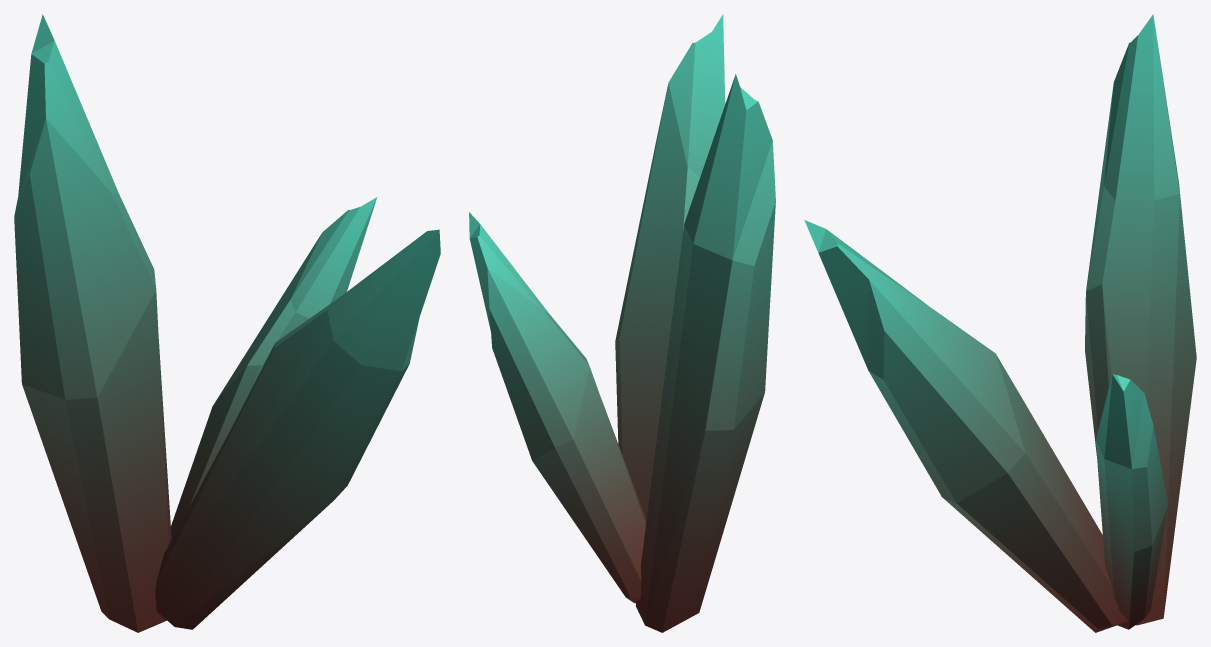
Rendered from Crystal_clump.FBX.
3 views of the same model, side by side, from view 1: azimuth 30°, elevation 25°; view 2: azimuth 150°, elevation 25°; view 3: azimuth 270°, elevation 25° (orthographic). The views are drawn at different scales.
Parts seen in each view (by area): view 1: tall_crystal; view 2: tall_crystal; view 3: tall_crystal.
Boxes of the visible parts, bbox=[...] form: tall_crystal: bbox=[14, 14, 440, 632]; tall_crystal: bbox=[469, 14, 775, 632]; tall_crystal: bbox=[804, 14, 1196, 632].
Bounding box in the file's own units: 4.49 × 7.83 × 4.92.
